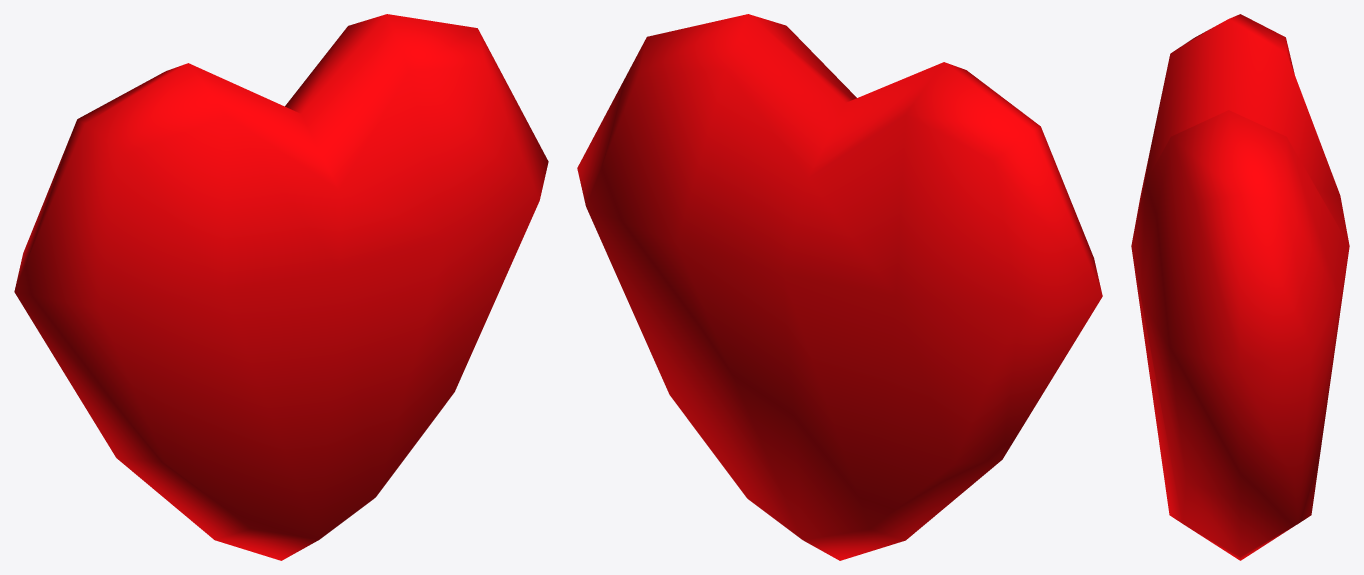
The model's file is heart.fbx.
The picture shows the model from 3 angles, left to right: view 1: azimuth 30°, elevation 25°; view 2: azimuth 150°, elevation 25°; view 3: azimuth 270°, elevation 25°; orthographic projection. The views are drawn at different scales.
Parts seen in each view (by area): view 1: Cube; view 2: Cube; view 3: Cube.
Part boxes in pixels (<box>): Cube: <box>14,14,548,560</box>; Cube: <box>577,14,1102,560</box>; Cube: <box>1131,14,1349,560</box>.
Size of the model in its own units: 267 by 252 by 100.
1 material, 1 textured.
